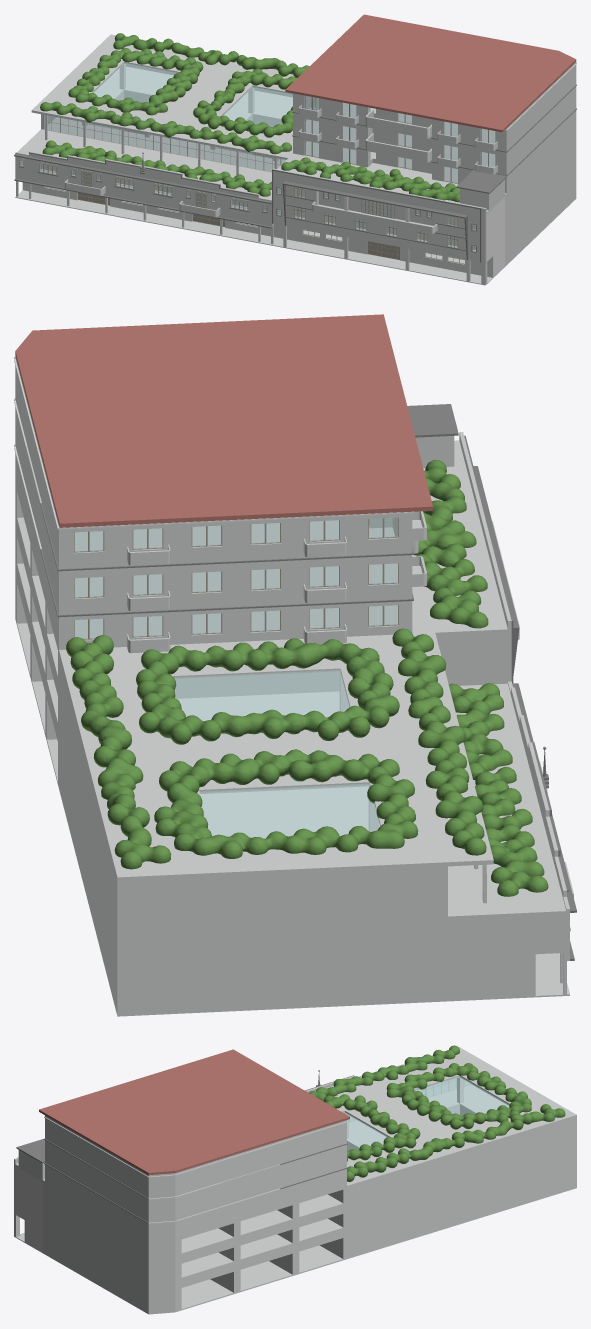
3 renders of one model, top to bottom at view 1: azimuth 30°, elevation 25°; view 2: azimuth 150°, elevation 25°; view 3: azimuth 270°, elevation 25°, orthographic. The views are drawn at different scales.
Visible parts, largest first — view 1: Object.3667, Mball.269, Object.3668, Object.3916, Object.3917, Object.4040, Object.4038, Object.3939, Object.4039, Object.3911, Object.3999, Object.4019 (+23 smaller); view 2: Object.3667, Mball.269, Object.3916, Object.3668, Object.3917, Object.3914, Object.4040, Object.3912, Object.3913, Object.3682, Object.4022, Object.4033 (+13 smaller); view 3: Object.4040, Object.3667, Object.3668, Object.3916, Mball.269, Object.3917, Object.3915, Object.3912, Object.4026, Object.3913, Object.4038, Object.3682 (+3 smaller).
Boxes of the visible parts, x1=… form: Object.3667: x1=285, y1=14, x2=576, y2=132; Mball.269: x1=40, y1=33, x2=459, y2=202; Object.3668: x1=293, y1=62, x2=576, y2=193; Object.3916: x1=31, y1=66, x2=292, y2=182; Object.3917: x1=31, y1=34, x2=296, y2=159; Object.4040: x1=505, y1=127, x2=576, y2=265; Object.4038: x1=15, y1=186, x2=576, y2=285; Object.3939: x1=15, y1=156, x2=272, y2=226; Object.4039: x1=273, y1=202, x2=486, y2=262; Object.3911: x1=44, y1=115, x2=285, y2=171; Object.3999: x1=272, y1=168, x2=486, y2=219; Object.4019: x1=279, y1=224, x2=493, y2=277; Object.3667: x1=15, y1=314, x2=432, y2=527; Mball.269: x1=66, y1=459, x2=548, y2=896; Object.3916: x1=59, y1=691, x2=493, y2=1015; Object.3668: x1=15, y1=355, x2=412, y2=649; Object.3917: x1=59, y1=632, x2=493, y2=881; Object.3914: x1=122, y1=866, x2=447, y2=931; Object.4040: x1=15, y1=481, x2=339, y2=786; Object.3912: x1=200, y1=784, x2=380, y2=838; Object.3913: x1=174, y1=670, x2=349, y2=720; Object.3682: x1=15, y1=439, x2=412, y2=608; Object.4022: x1=456, y1=683, x2=566, y2=917; Object.4033: x1=412, y1=440, x2=507, y2=635; Object.4040: x1=42, y1=1180, x2=346, y2=1313; Object.3667: x1=39, y1=1049, x2=349, y2=1175; Object.3668: x1=45, y1=1115, x2=346, y2=1241; Object.3916: x1=347, y1=1079, x2=576, y2=1258; Mball.269: x1=309, y1=1045, x2=565, y2=1181; Object.3917: x1=326, y1=1047, x2=576, y2=1187; Object.3915: x1=347, y1=1117, x2=576, y2=1214; Object.3912: x1=414, y1=1076, x2=509, y2=1115; Object.4026: x1=15, y1=1166, x2=42, y2=1252; Object.3913: x1=343, y1=1112, x2=387, y2=1150; Object.4038: x1=14, y1=1187, x2=576, y2=1314; Object.3682: x1=45, y1=1159, x2=346, y2=1221.
Size of the model in its own units: 1.44 by 0.4541 by 1.64.
